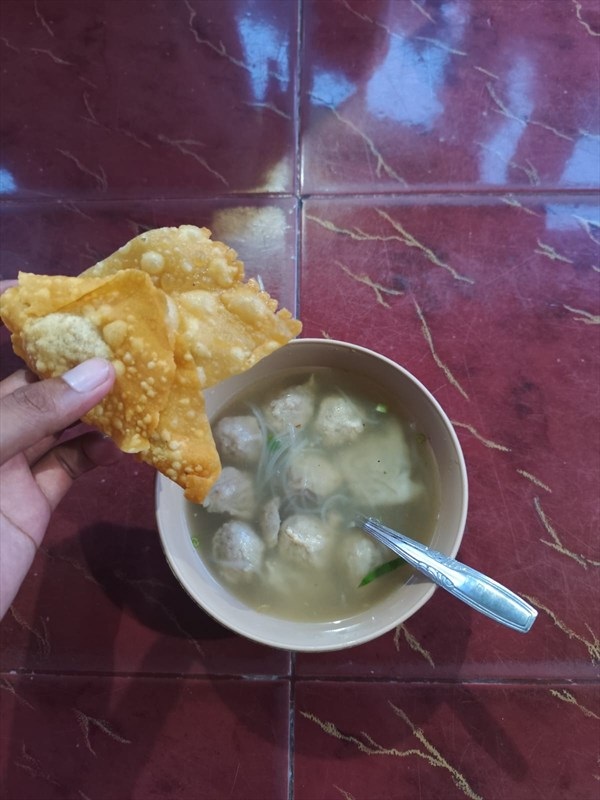Bakso: (17, 39, 527, 661)
